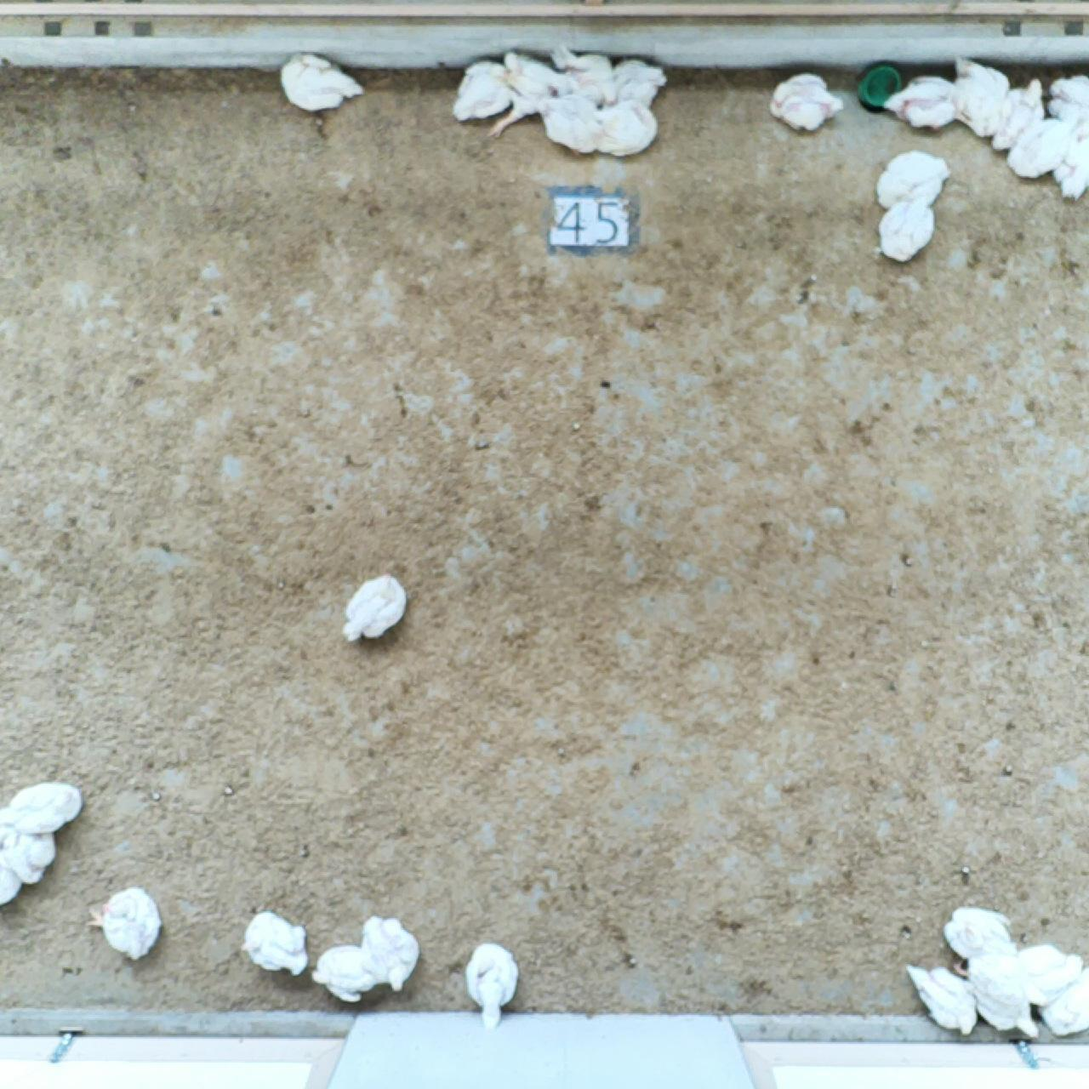chicken: (90, 882, 169, 966), (897, 964, 975, 1049), (341, 574, 425, 647), (767, 63, 846, 140), (968, 964, 1044, 1043), (942, 895, 1020, 969), (280, 48, 364, 116), (466, 938, 527, 1027), (948, 57, 1012, 140), (450, 58, 524, 123), (507, 45, 568, 123), (875, 149, 951, 211), (361, 915, 421, 993), (539, 89, 604, 161), (241, 909, 310, 975), (884, 77, 960, 134), (5, 783, 90, 833), (879, 202, 941, 268), (311, 944, 378, 1005), (556, 38, 617, 105), (1012, 947, 1080, 1006), (597, 98, 664, 157), (607, 54, 670, 115), (995, 79, 1045, 154), (1006, 118, 1061, 178), (1048, 969, 1089, 1038), (3, 835, 59, 883), (1054, 134, 1089, 205), (1052, 76, 1089, 132), (1, 861, 20, 908)
